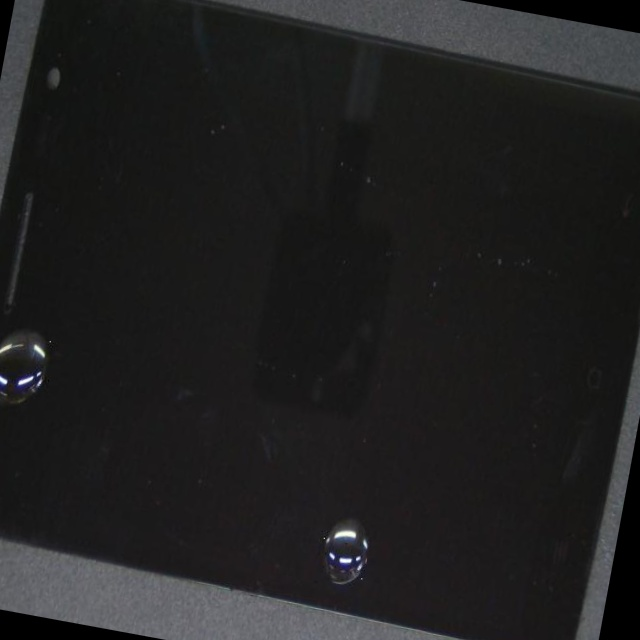oil: (101, 199, 575, 640), (0, 116, 53, 594)
